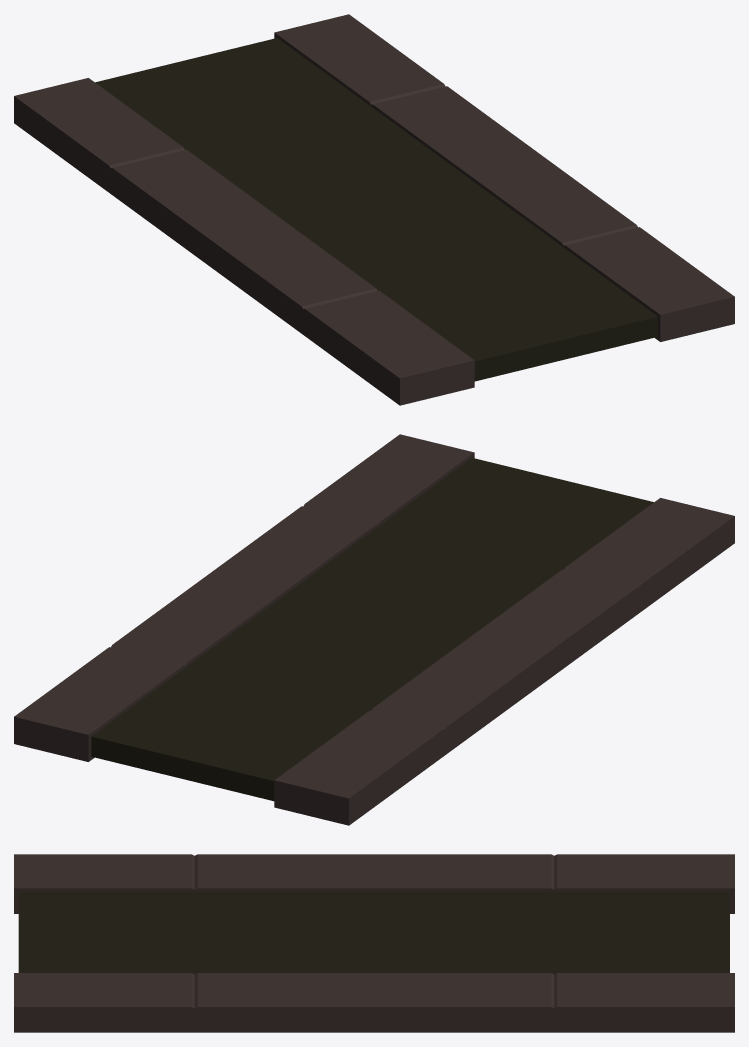
File: Street.fbx
3 views of the same model, one above another, from view 1: azimuth 30°, elevation 25°; view 2: azimuth 150°, elevation 25°; view 3: azimuth 270°, elevation 25° (orthographic). The views are drawn at different scales.
Parts seen in each view (by area): view 1: Cube.025_Cube.801; view 2: Cube.025_Cube.801; view 3: Cube.025_Cube.801.
Part boxes in pixels (bbox=[...]): Cube.025_Cube.801: bbox=[14, 14, 734, 405]; Cube.025_Cube.801: bbox=[14, 434, 734, 825]; Cube.025_Cube.801: bbox=[14, 854, 734, 1032].
Bounding box in the file's own units: 5.81 × 0.4516 × 11.6.
